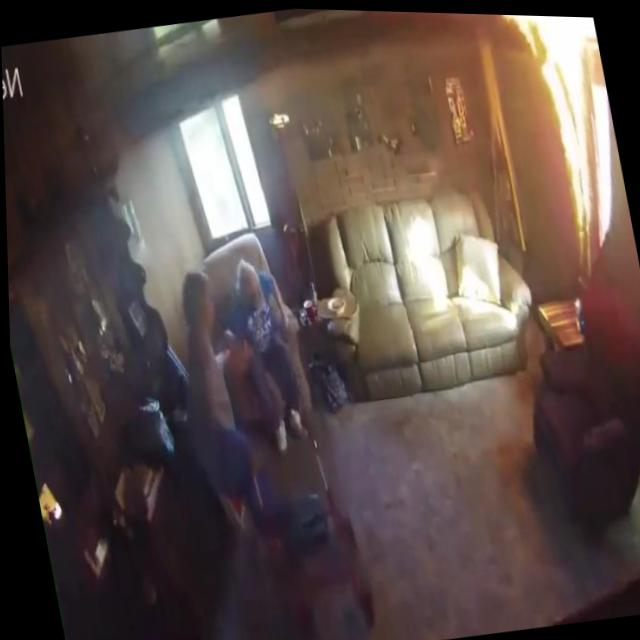fire: (495, 12, 634, 255)
